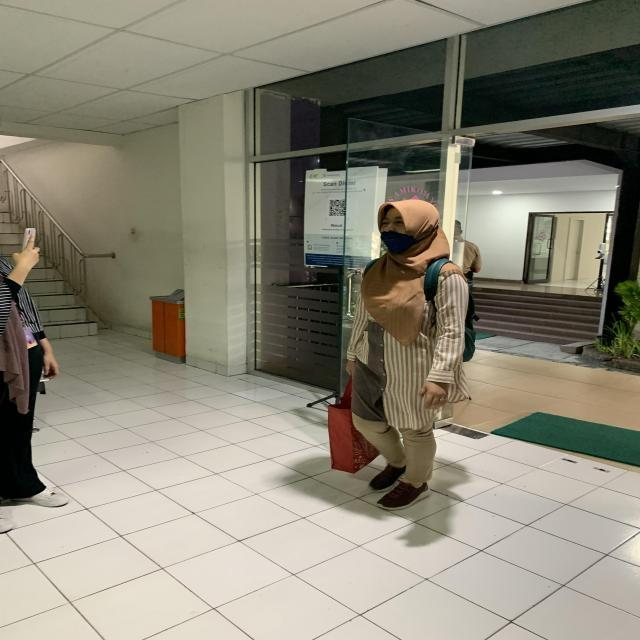hairnet: (364, 197, 454, 266)
